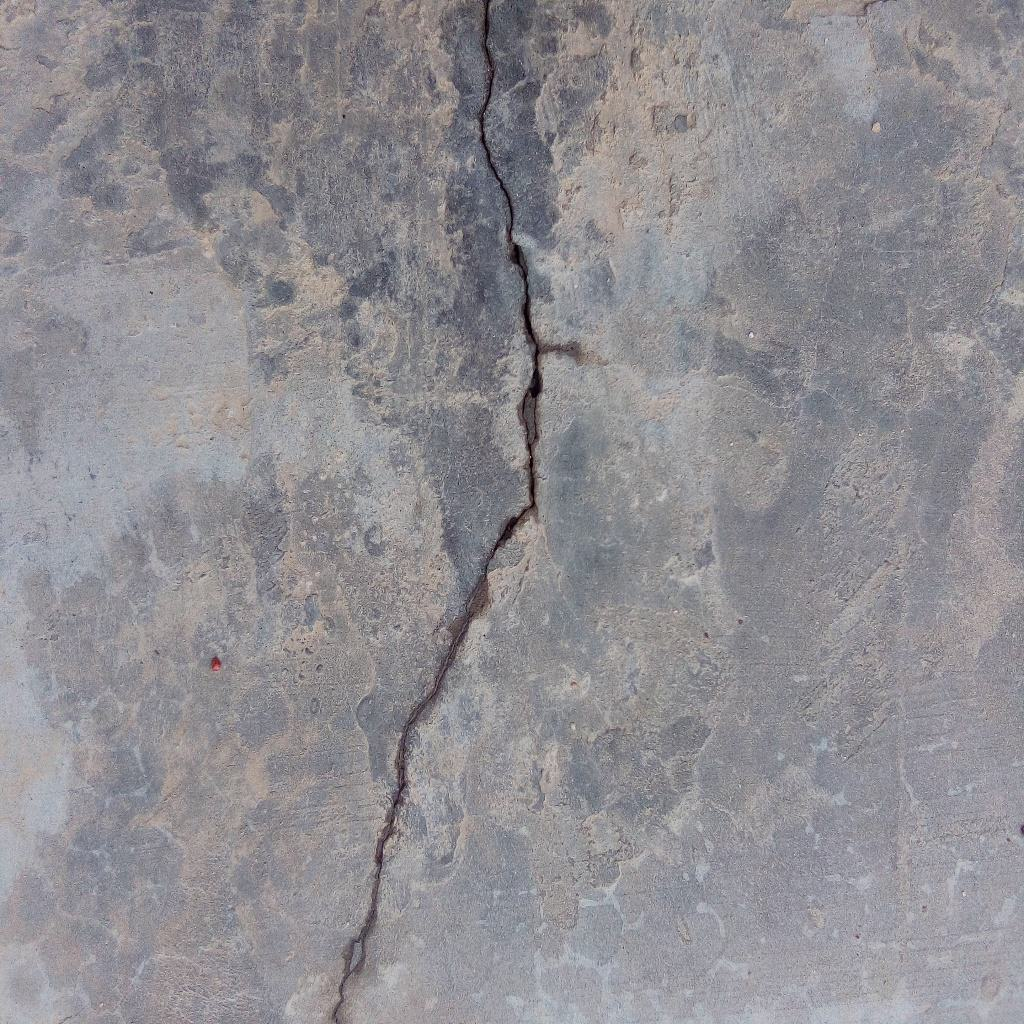Crack: (327, 1, 542, 1024)
